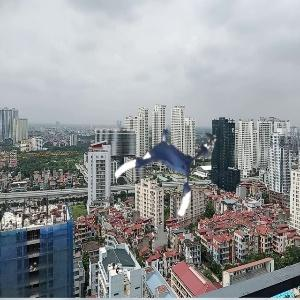drone: (118, 122, 208, 212)
